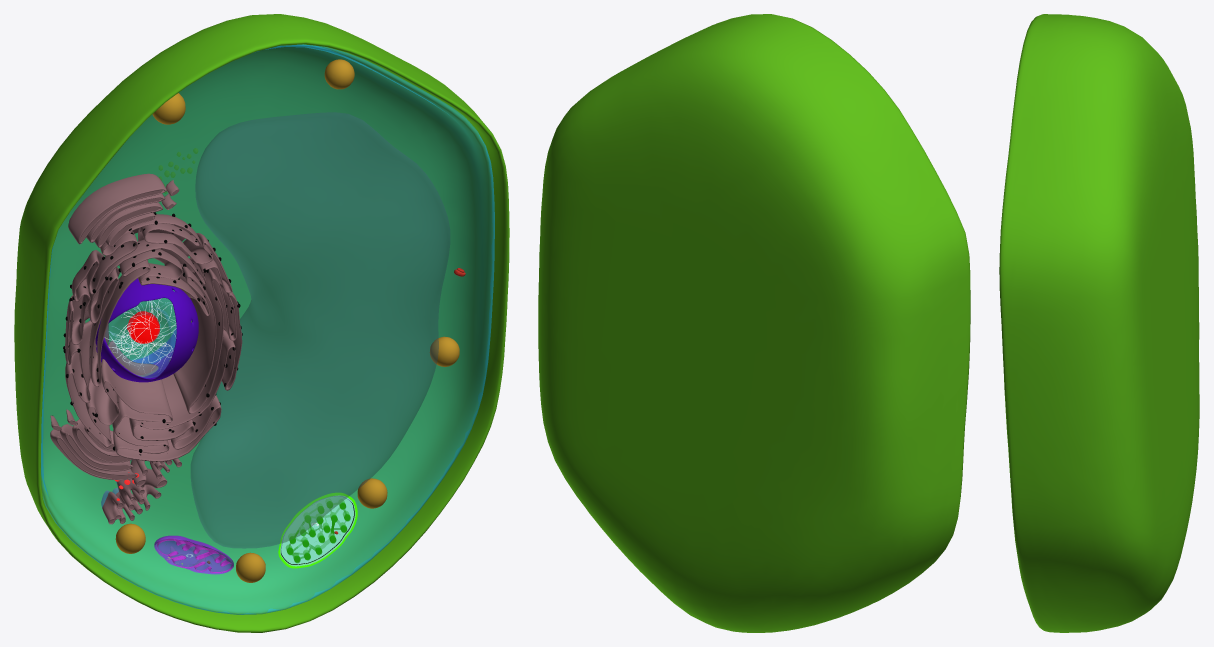
The model's file is optimized_bitki.glb.
3 views of the same model, side by side, from view 1: azimuth 30°, elevation 25°; view 2: azimuth 150°, elevation 25°; view 3: azimuth 270°, elevation 25° (orthographic). The views are drawn at different scales.
Parts seen in each view (by area): view 1: bitki_hucre_ceperi, bitki_hucre_zari, merkezi_koful, RER, golgi, all_cell_render_pSphere502, cekirdek_zari, KloDis_zarShape_1, cekirdek_sitop, golgi2, duzER, ic_zarShape_1 (+8 smaller); view 2: bitki_hucre_ceperi; view 3: bitki_hucre_ceperi.
Part boxes in pixels (box(x1,y1,x2,y2)): bitki_hucre_ceperi: box(14, 14, 509, 632); bitki_hucre_zari: box(41, 44, 494, 614); merkezi_koful: box(191, 112, 449, 548); RER: box(65, 214, 242, 461); golgi: box(68, 173, 179, 247); all_cell_render_pSphere502: box(115, 59, 459, 582); cekirdek_zari: box(89, 278, 198, 382); KloDis_zarShape_1: box(278, 492, 357, 568); cekirdek_sitop: box(104, 290, 191, 377); golgi2: box(50, 409, 137, 480); duzER: box(101, 458, 181, 524); ic_zarShape_1: box(281, 497, 353, 564); bitki_hucre_ceperi: box(538, 14, 970, 632); bitki_hucre_ceperi: box(999, 14, 1199, 632).
Bounding box in the file's own units: 2.21 × 2.95 × 0.9126.
